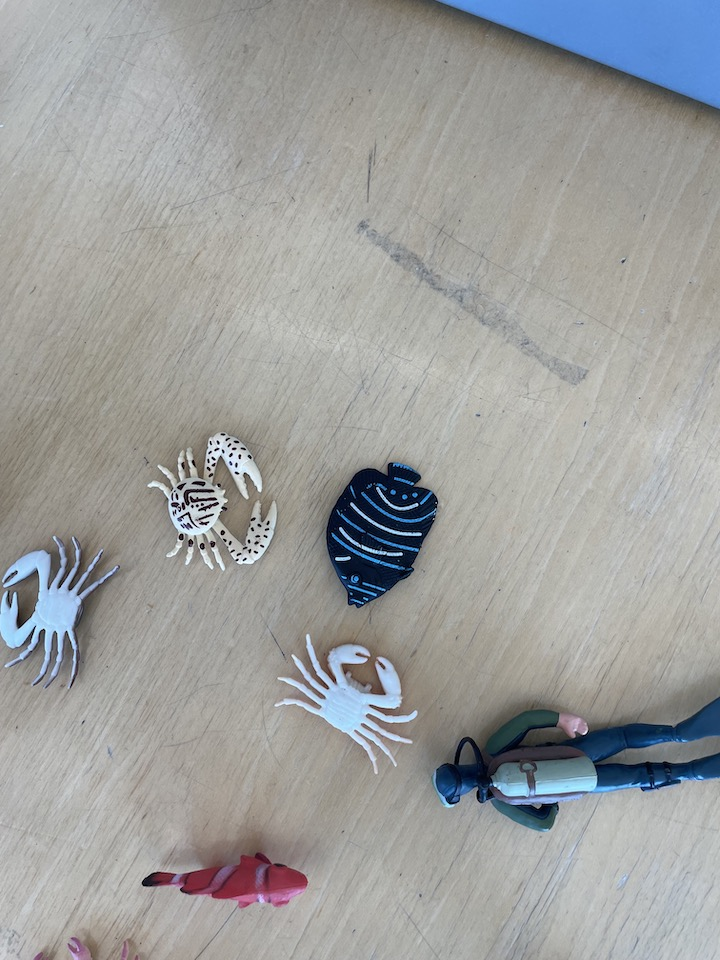crab: (271, 630, 422, 777), (1, 533, 122, 695), (143, 432, 280, 574)
diver: (434, 693, 720, 836)
fish: (324, 455, 445, 614), (139, 851, 312, 911)
